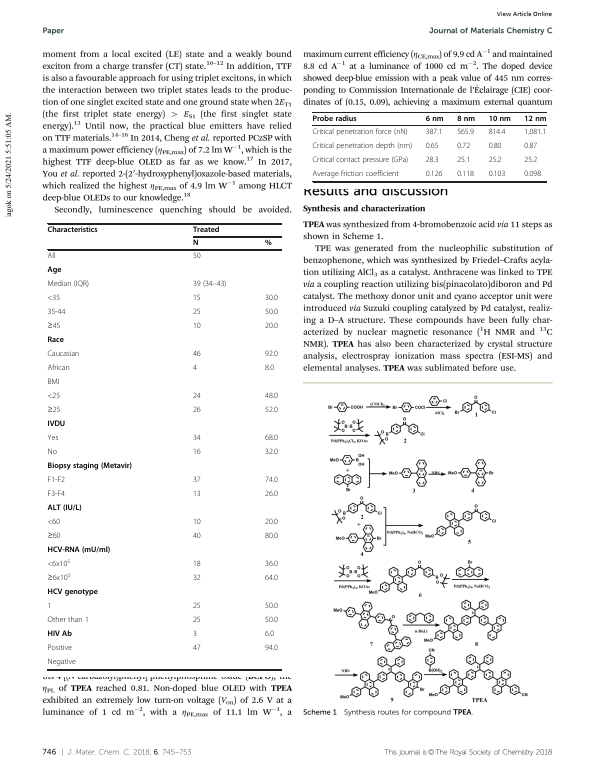borderless: (46, 222, 281, 669), (311, 111, 546, 181)
cell: (312, 142, 413, 151), (312, 156, 409, 165), (312, 128, 408, 137), (47, 462, 133, 472), (312, 170, 400, 179), (47, 546, 111, 556), (47, 588, 99, 598), (47, 226, 99, 235), (47, 280, 90, 290), (47, 616, 90, 626), (312, 115, 358, 123), (47, 504, 83, 514), (192, 280, 227, 290), (47, 350, 80, 360), (47, 658, 77, 668), (47, 573, 72, 584), (47, 559, 71, 570), (47, 630, 73, 640), (47, 644, 73, 654), (192, 226, 220, 235), (47, 364, 71, 374), (523, 128, 547, 137), (488, 115, 512, 123), (523, 115, 547, 123), (47, 308, 66, 318), (47, 420, 66, 430), (47, 476, 66, 486), (47, 490, 66, 500), (47, 336, 65, 346), (456, 128, 475, 137), (456, 170, 475, 179), (523, 170, 542, 179), (425, 128, 443, 137), (488, 128, 506, 137), (425, 170, 443, 179), (488, 170, 506, 179), (456, 115, 476, 123), (425, 115, 444, 123), (47, 266, 62, 276), (264, 294, 279, 304), (264, 308, 279, 318), (264, 322, 279, 332), (264, 350, 279, 360), (264, 392, 279, 402), (264, 406, 279, 416), (264, 434, 279, 444), (264, 448, 279, 458), (264, 476, 279, 486), (264, 490, 279, 500), (264, 518, 279, 528), (264, 532, 279, 542), (264, 560, 279, 570), (264, 574, 279, 584), (264, 602, 279, 612), (264, 616, 279, 626), (264, 644, 279, 654), (47, 294, 61, 304), (47, 322, 61, 332), (47, 392, 61, 402), (47, 406, 61, 416), (47, 518, 61, 528), (47, 532, 61, 542), (456, 142, 471, 151), (523, 142, 538, 151), (456, 156, 471, 165), (523, 156, 538, 165), (47, 378, 60, 388), (425, 142, 439, 151), (488, 142, 502, 151), (425, 156, 439, 165), (488, 156, 502, 165), (47, 434, 59, 444), (264, 364, 275, 374), (47, 448, 58, 458), (264, 630, 275, 640), (192, 252, 202, 262), (192, 294, 202, 304), (192, 308, 202, 318), (192, 322, 202, 332), (192, 350, 202, 360), (192, 392, 202, 402), (192, 406, 202, 416), (192, 434, 202, 444), (192, 448, 202, 458), (192, 476, 202, 486), (192, 490, 202, 500), (192, 518, 202, 528), (192, 532, 202, 542), (192, 560, 202, 570), (192, 574, 202, 584), (192, 602, 202, 612), (192, 616, 202, 626), (192, 644, 202, 654), (264, 239, 273, 249), (47, 252, 56, 262), (192, 239, 199, 249), (192, 364, 198, 374), (192, 630, 198, 640), (47, 602, 52, 612)
